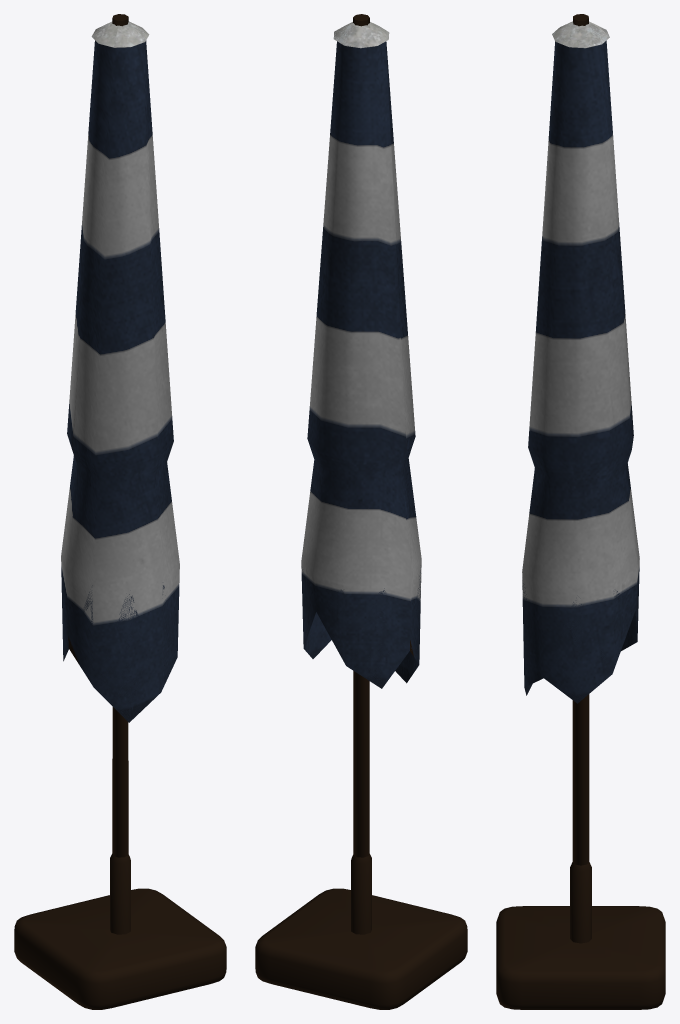
The model's file is parasol closed.FBX.
3 views of the same model, side by side, from view 1: azimuth 30°, elevation 25°; view 2: azimuth 150°, elevation 25°; view 3: azimuth 270°, elevation 25° (orthographic).
Parts seen in each view (by area): view 1: parasol closed; view 2: parasol closed; view 3: parasol closed.
Boxes of the visible parts, <box> form: parasol closed: <box>14,14,226,1009</box>; parasol closed: <box>255,14,467,1009</box>; parasol closed: <box>496,14,665,1009</box>.
Bounding box in the file's own units: 40 × 250 × 40.
